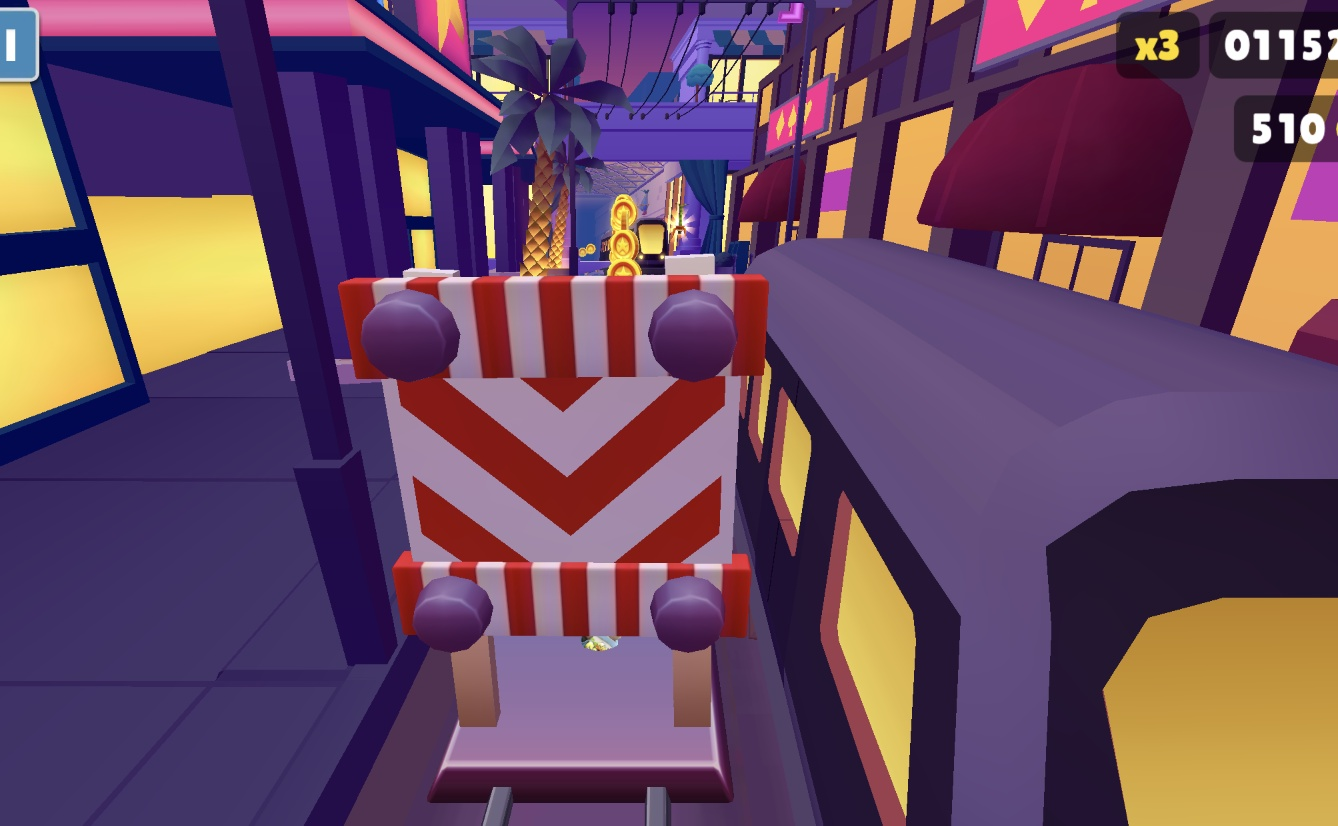overhead_barrier: (339, 245, 776, 804)
train: (729, 227, 1338, 826)
